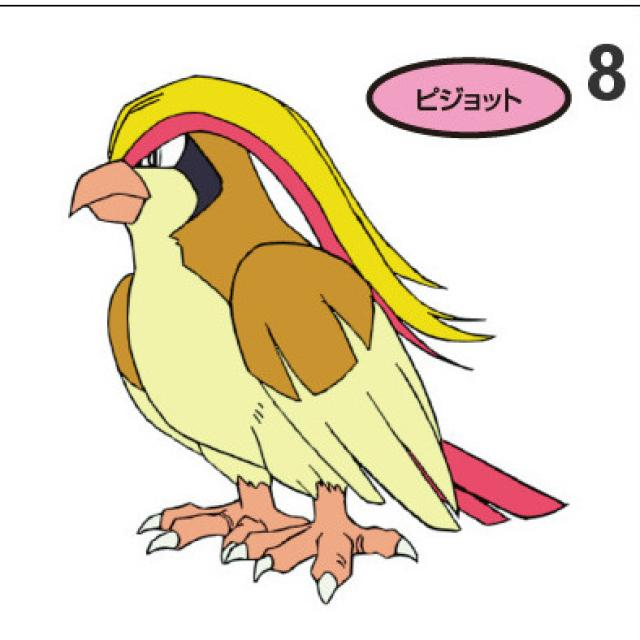Pidgeot: (58, 69, 461, 588)
